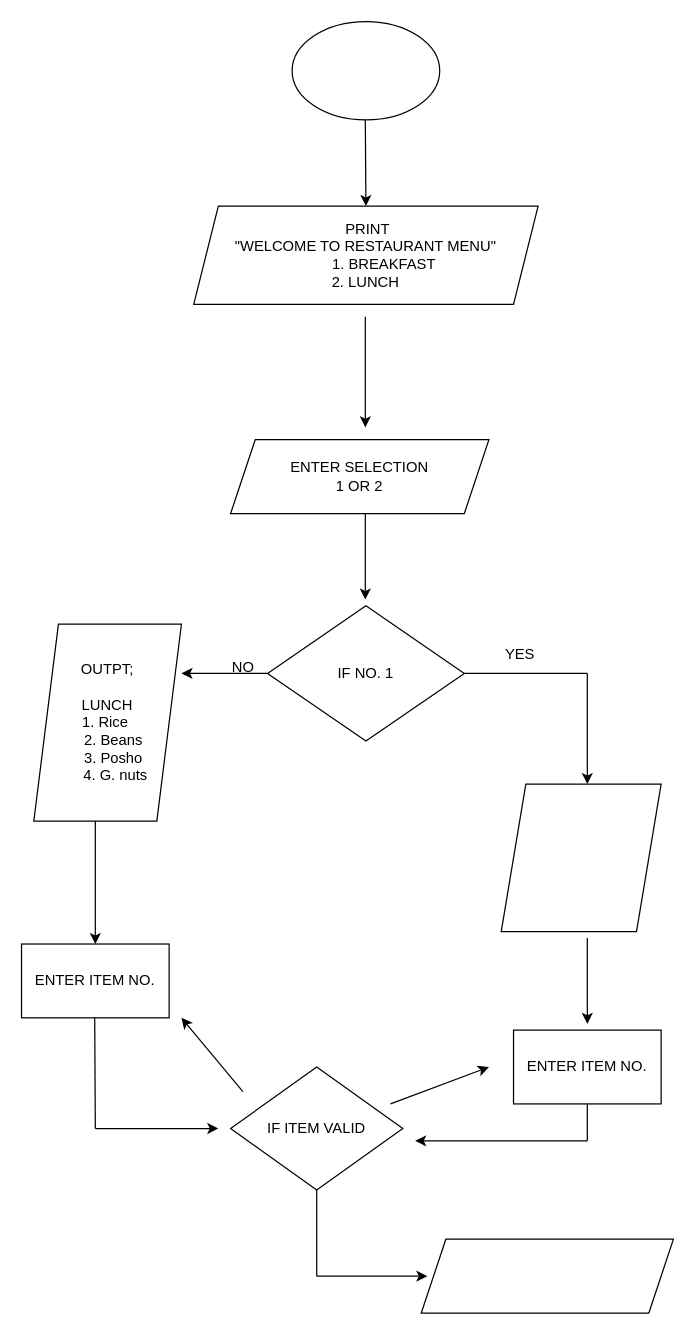
The diagram is 695 pixels wide and 1335 high, and some of its shapes have lost their labels. The centre of each missing label's shape, as x and y in pixels:
OUTPUT; BREAKFAST 1. Katogo 2. Milk 3. Eggs 4. Sandwich 5. Chapatti: the point at 580,857
PRINT ITEM AND VALUE: the point at 546,1275
START: the point at 365,70
